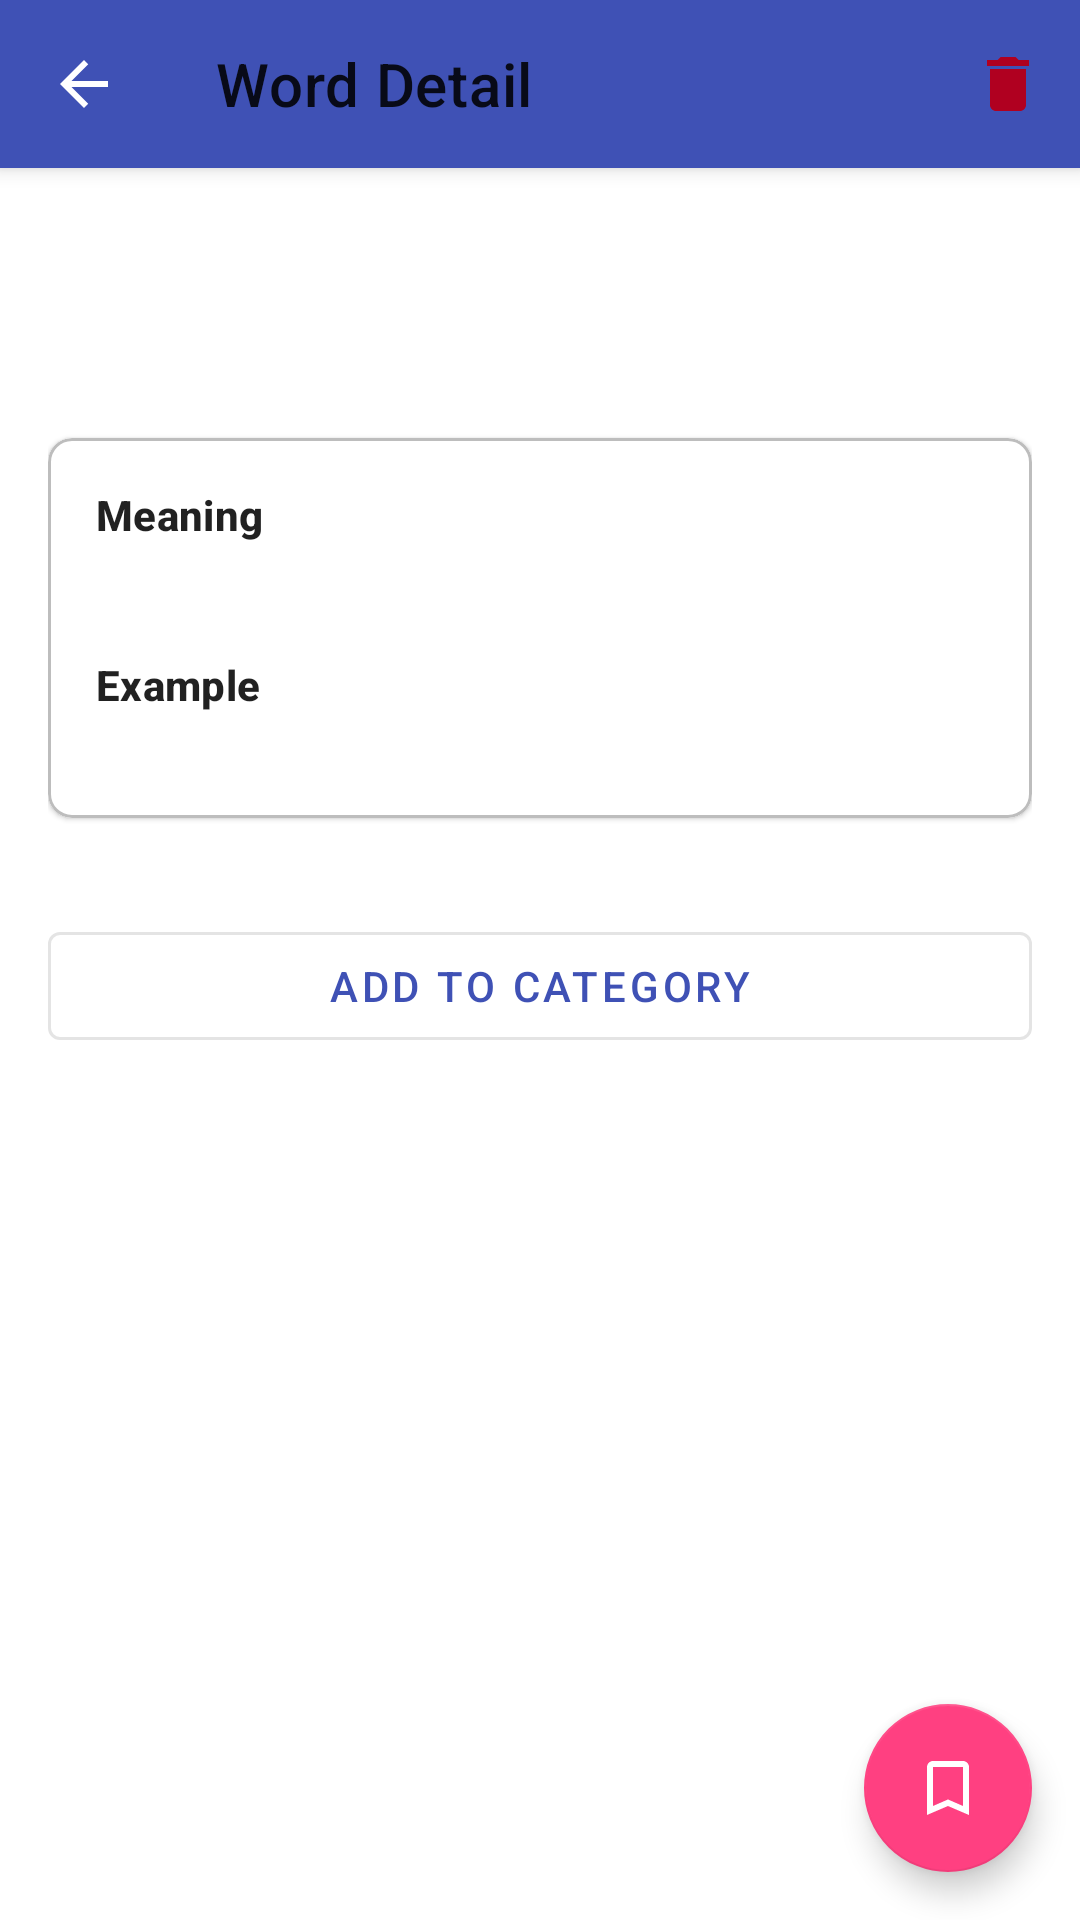

Point at icon controls on the screen. Image size 1080×1920, points as point (x, y).
Bookmark Word: point (948, 1788)
